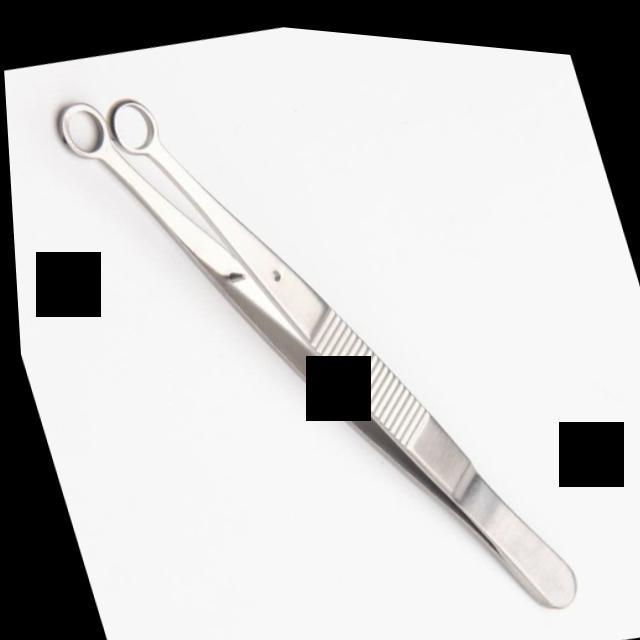Eye Intestinal Forceps: (34, 3, 589, 640)
